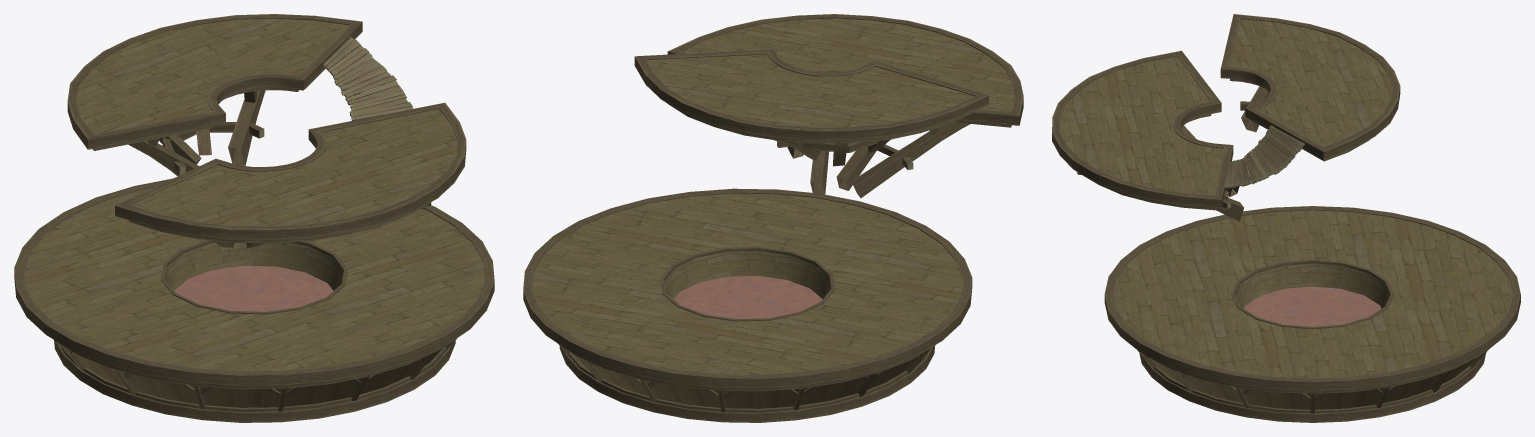
The model's file is Homeworld_Exterior_Xm_Build_House_01_A_Lod0.fbx.
The picture shows the model from 3 angles, left to right: view 1: azimuth 30°, elevation 25°; view 2: azimuth 150°, elevation 25°; view 3: azimuth 270°, elevation 25°; orthographic projection. The views are drawn at different scales.
Visible parts, largest first — view 1: Homeworld_Exterior_Xm_Build_House_01_A_Lod0; view 2: Homeworld_Exterior_Xm_Build_House_01_A_Lod0; view 3: Homeworld_Exterior_Xm_Build_House_01_A_Lod0.
Boxes of the visible parts, x1,y1,x2,y2 form: Homeworld_Exterior_Xm_Build_House_01_A_Lod0: (14, 14, 494, 422); Homeworld_Exterior_Xm_Build_House_01_A_Lod0: (523, 14, 1023, 422); Homeworld_Exterior_Xm_Build_House_01_A_Lod0: (1052, 14, 1520, 422).
Size of the model in its own units: 20.9 by 13.4 by 23.16.
